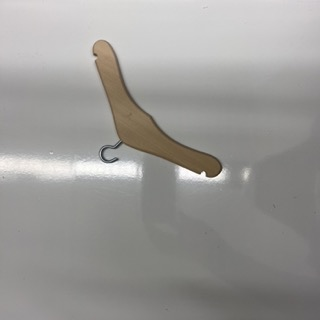rack: (92, 39, 222, 177)
